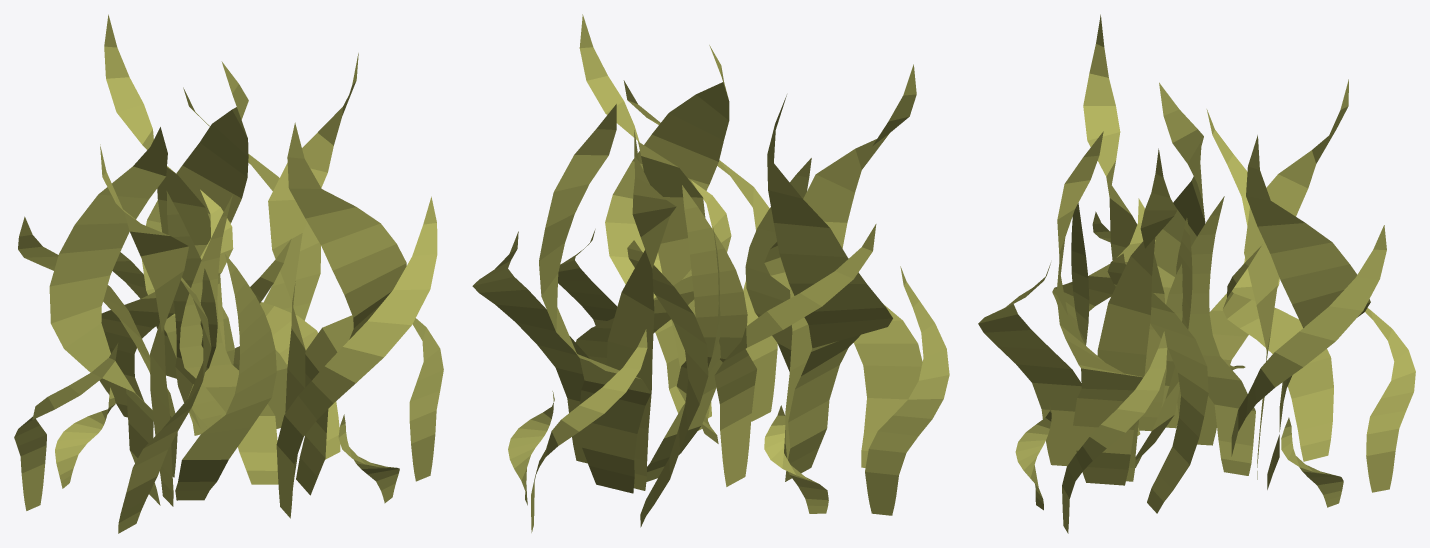
The model's file is SFHW_Plant_009.fbx.
The picture shows the model from 3 angles, left to right: view 1: azimuth 30°, elevation 25°; view 2: azimuth 150°, elevation 25°; view 3: azimuth 270°, elevation 25°; orthographic projection. The views are drawn at different scales.
Parts seen in each view (by area): view 1: SFHW_Plant_009; view 2: SFHW_Plant_009; view 3: SFHW_Plant_009.
Part boxes in pixels (box(x1,y1,x2,y2)): SFHW_Plant_009: box(14, 14, 443, 533); SFHW_Plant_009: box(472, 14, 949, 532); SFHW_Plant_009: box(978, 14, 1415, 533).
Size of the model in its own units: 23.06 by 21.86 by 23.13.
